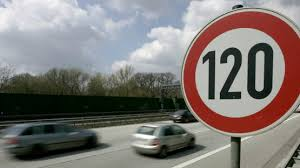Speed_limit_120km: (178, 7, 300, 138)
